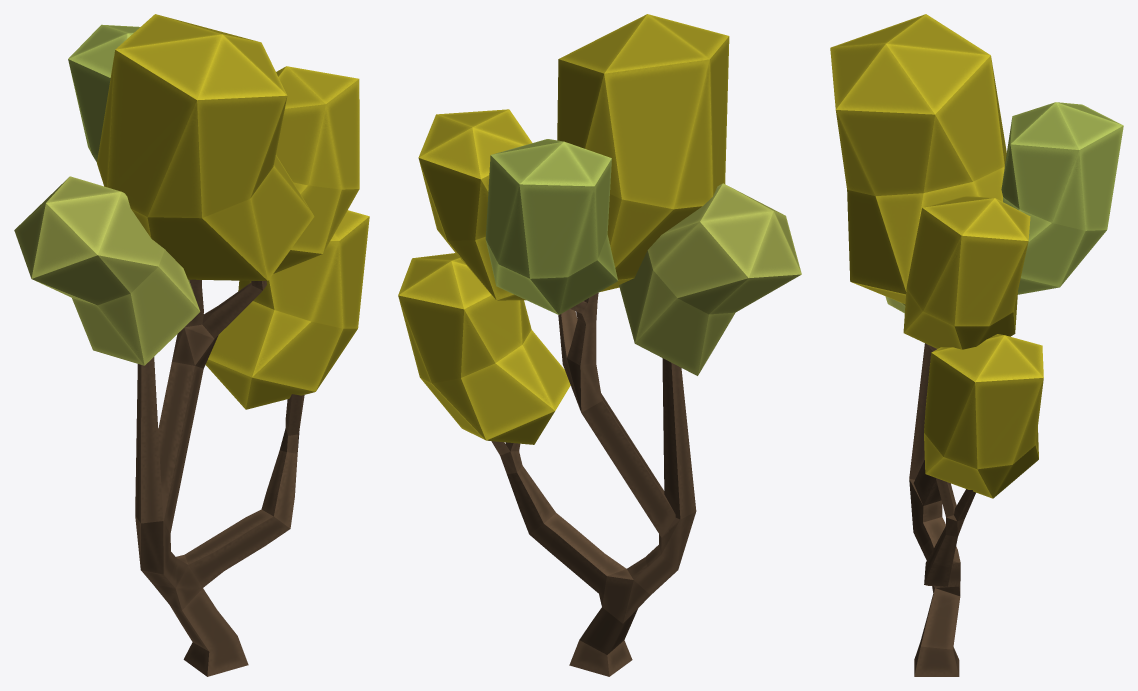
File: Tree1.e957eb70.glb
3 views of the same model, side by side, from view 1: azimuth 30°, elevation 25°; view 2: azimuth 150°, elevation 25°; view 3: azimuth 270°, elevation 25° (orthographic). The views are drawn at different scales.
Parts seen in each view (by area): view 1: Icosphere.023; view 2: Icosphere.023; view 3: Icosphere.023.
Part boxes in pixels (x1,y1,x2,y2): Icosphere.023: (14, 14, 369, 676); Icosphere.023: (398, 14, 801, 676); Icosphere.023: (830, 14, 1123, 676).
Bounding box in the file's own units: 11.09 × 18.75 × 8.1.
Materials: 1 (1 with a texture image).
